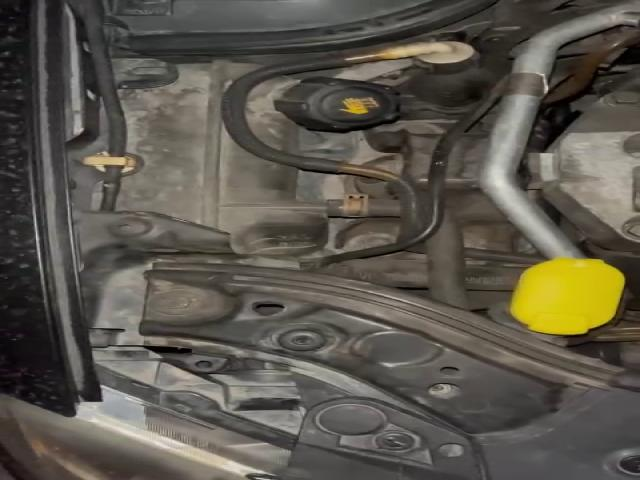antifreeze_tank: (121, 61, 353, 254), (245, 76, 398, 163)
